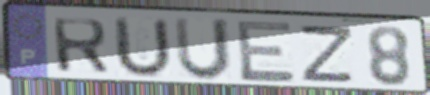8: (365, 25, 413, 88)
E: (233, 18, 298, 84)
R: (49, 16, 111, 76)
U: (172, 16, 233, 84), (112, 15, 174, 80)
Z: (299, 25, 356, 85)
